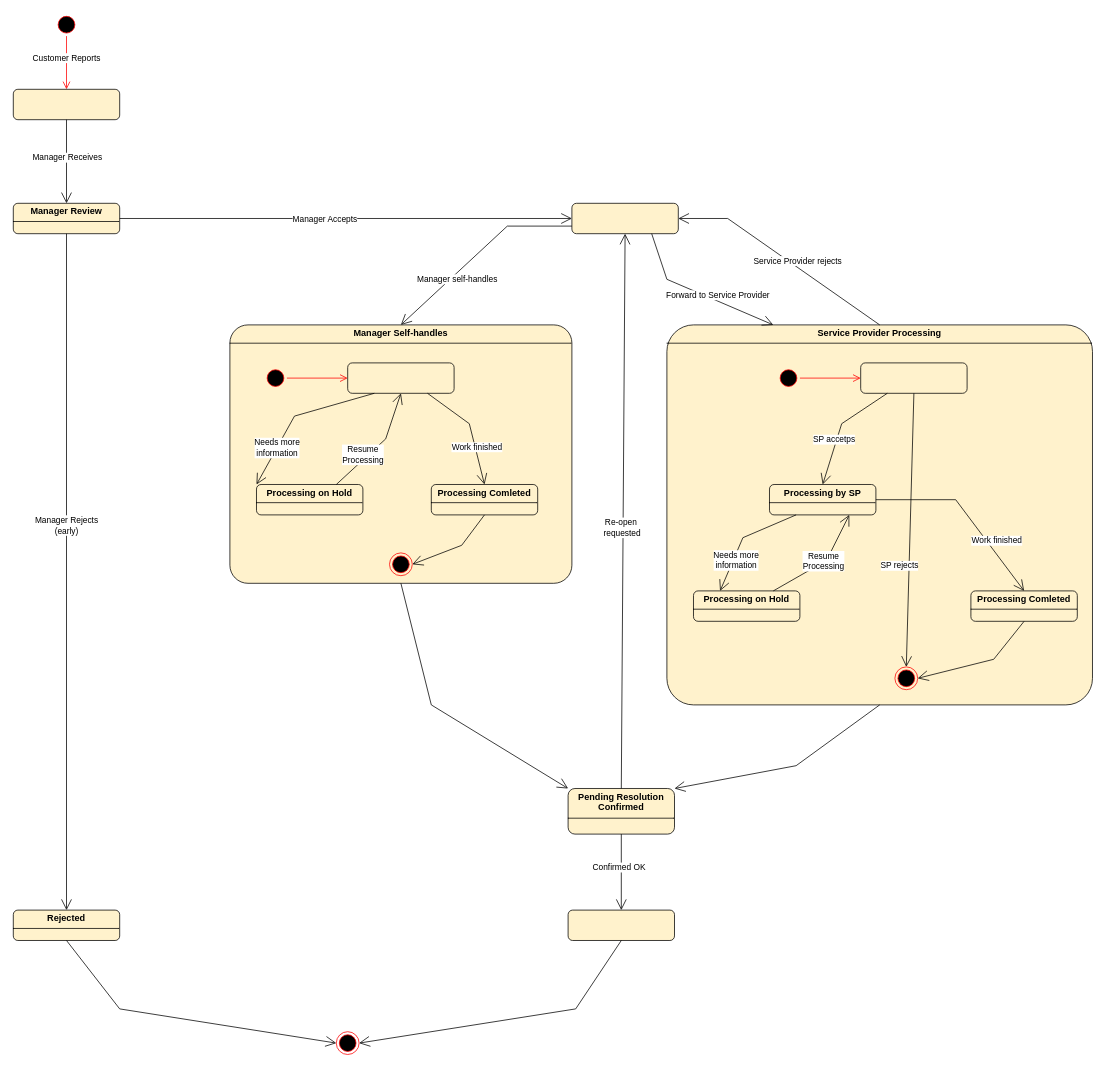
Image size: 1106x1068. Some labels were removed from this diagram. Here are the shapes that lost their labels. From the top down, the centre of each, then its label:
At (x=66, y=104): "New Report".
At (x=624, y=218): "Pending Classification".
At (x=400, y=377): "Processing by Manager".
At (x=913, y=377): "Forwarded To SP".
At (x=620, y=924): "Closed".
